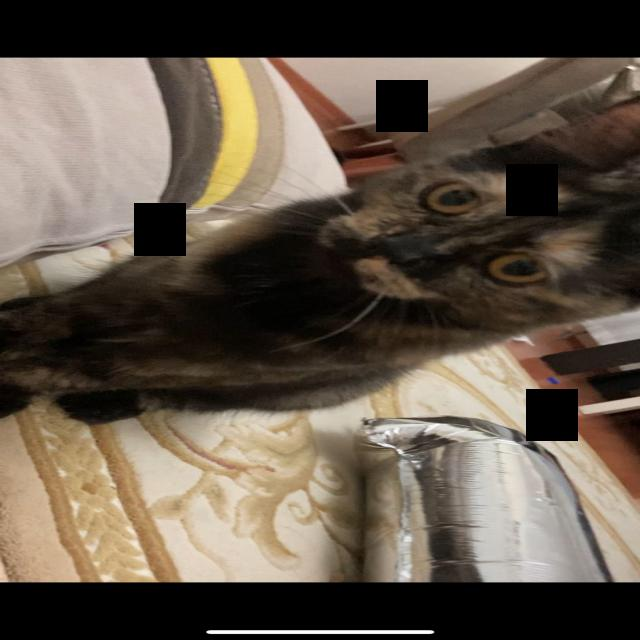authorized: (1, 136, 638, 425)
